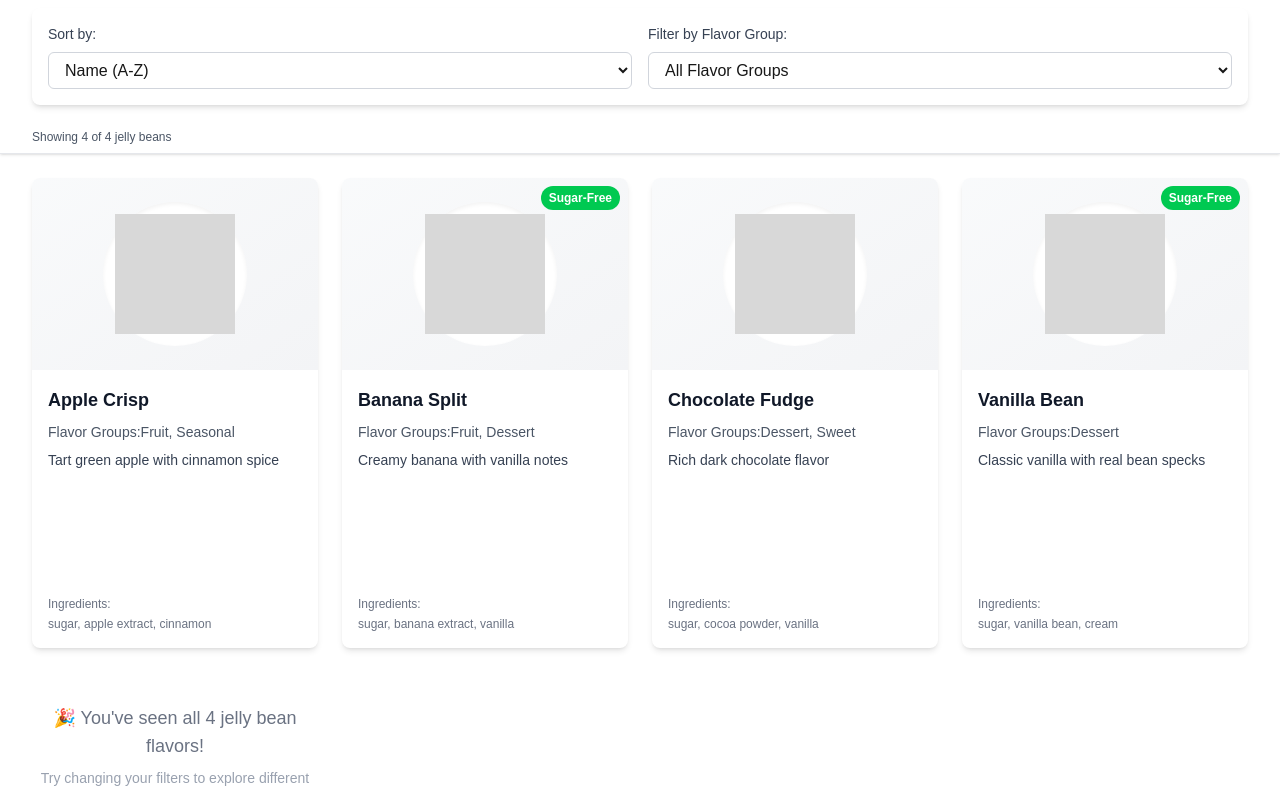
Scenario: InfiniteJellyBeanList Integration Tests › Real Component Integration › handles sugar-free sorting
Note: Sort by sugar-free first
Select "Sugar-Free First" in the dropdown labelled "Sort by:" at (340, 70), box x1=48 y1=52 x2=632 y2=89
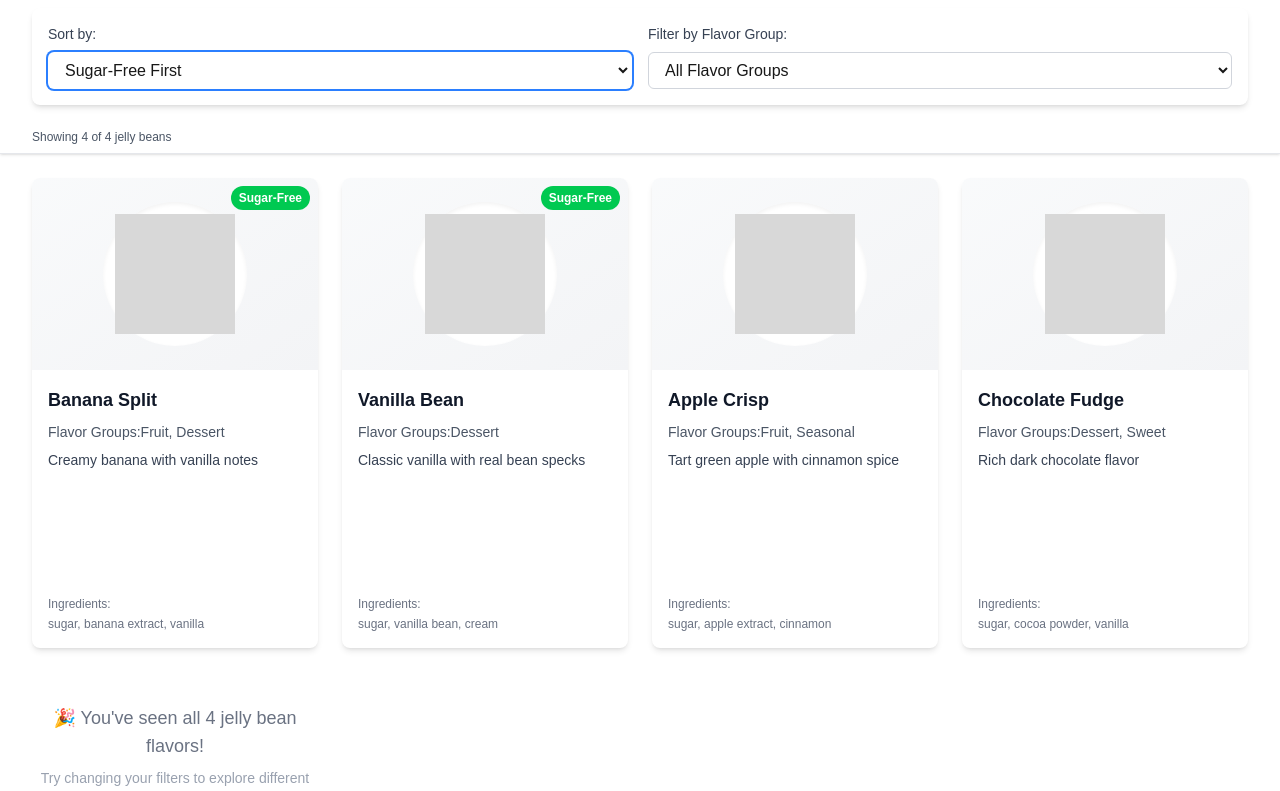
Expected: the element that starts with "Apple Crisp" does not show "Sugar-Free", x1=652 y1=178 x2=938 y2=648
Expected: the element that starts with "Sugar-Free" is shown, x1=239 y1=191 x2=302 y2=205
